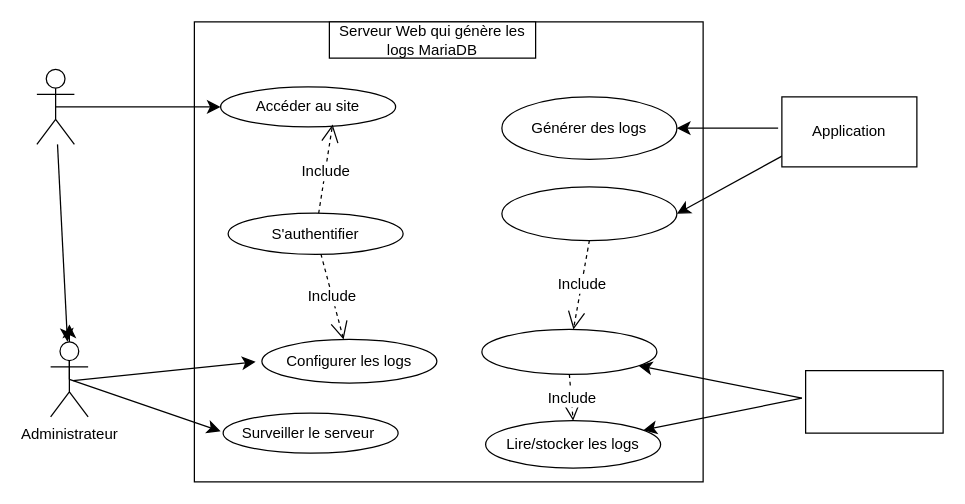
Some shapes in this 965 by 504 pixel diagram are drawn without their labels. The shapes that lost their labels are listed below. From the top down, each one's centre as x and y in pixels, then its label:
At point 55,106: "Utilisateur".
At point 589,213: "Envoyer des requêtes".
At point 569,351: "Recevoir les logs".
At point 873,401: "Service de collecte de logs".
